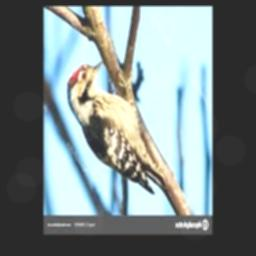Woodpecker: (67, 61, 166, 194)
